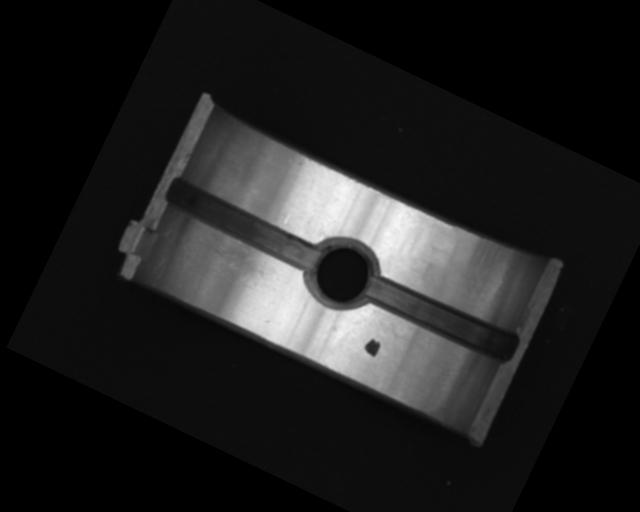blot: (361, 335, 383, 358)
gap: (159, 174, 327, 276), (363, 270, 521, 368)
hole: (298, 229, 388, 320)
nick: (282, 175, 316, 228)
scratch: (179, 220, 278, 292)
